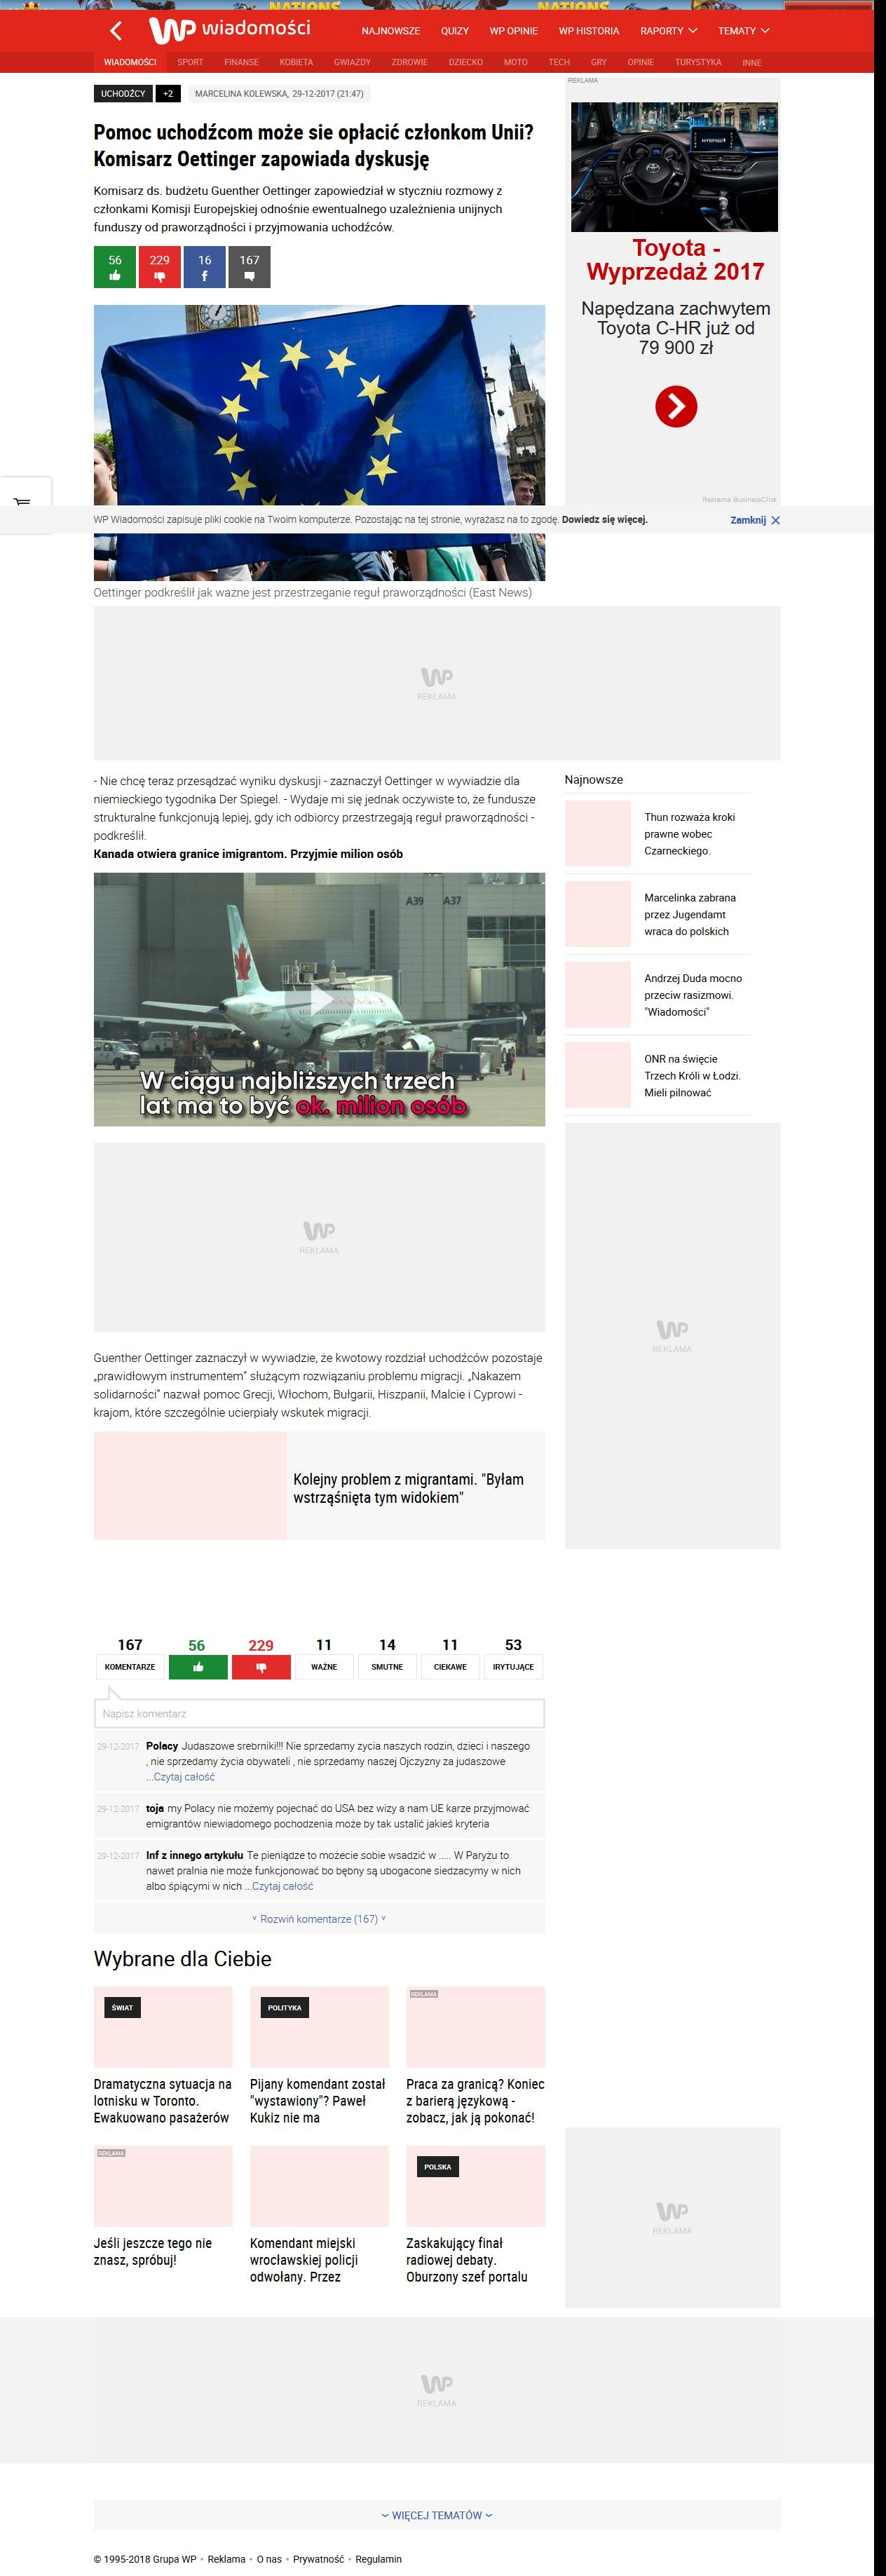title: (94, 123, 534, 171)
